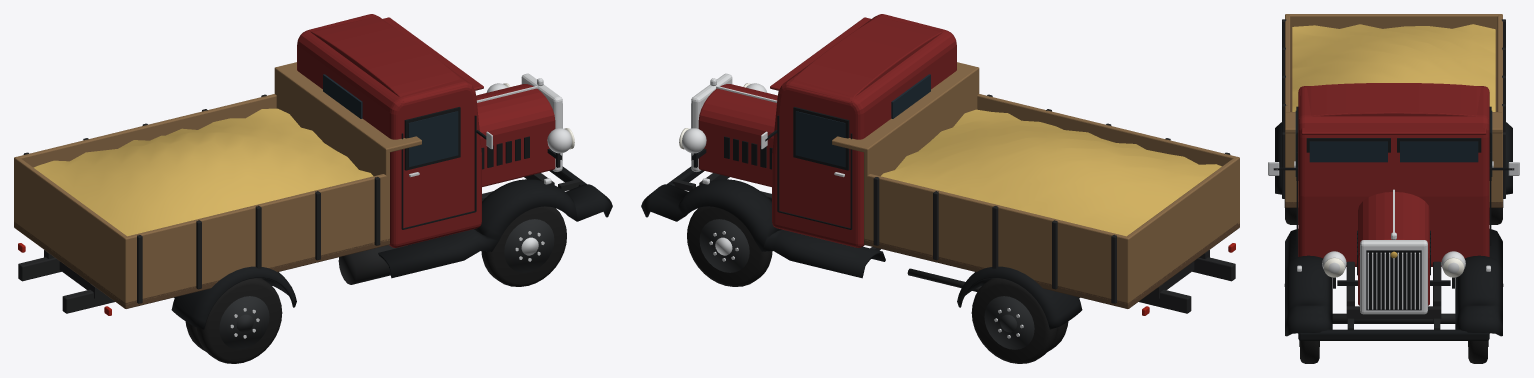
Rendered from hereford_grain_truck.glb.
3 renders of one model, left to right at view 1: azimuth 30°, elevation 25°; view 2: azimuth 150°, elevation 25°; view 3: azimuth 270°, elevation 25°, orthographic. The views are drawn at different scales.
Visible parts, largest first — view 1: monte_carga, lateral.001, cabine, tampa, paralama_d.001, teto_abaulado, capo, lateral, frente_cac, roda_t_pneu0.001, roda_d_pneu0.001, paralama_t.001 (+14 smaller); view 2: monte_carga, lateral, cabine, tampa, paralama_d, teto_abaulado, capo, frente_cac, lateral.001, roda_t_pneu1, roda_d_pneu0, paralama_t (+13 smaller); view 3: cabine, monte_carga, teto_abaulado, paralama_d, paralama_d.001, capo, tampa, radiador_colmeia, para_choque, radiador_moldura, parabrisa, parabrisa.001 (+23 smaller).
Boxes of the visible parts, box(x1,y1,x2,y2) form: monte_carga: box(33, 108, 373, 236); lateral.001: box(123, 174, 389, 304); cabine: box(297, 14, 481, 247); tampa: box(14, 157, 128, 301); paralama_d.001: box(378, 179, 612, 278); teto_abaulado: box(310, 17, 466, 101); capo: box(476, 84, 555, 186); lateral: box(14, 94, 276, 223); frente_cac: box(274, 71, 389, 225); roda_t_pneu0.001: box(196, 278, 282, 363); roda_d_pneu0.001: box(481, 206, 566, 286); paralama_t.001: box(171, 266, 296, 329); monte_carga: box(881, 109, 1221, 236); lateral: box(864, 174, 1130, 304); cabine: box(772, 14, 956, 247); tampa: box(1125, 157, 1239, 303); paralama_d: box(641, 179, 885, 278); teto_abaulado: box(787, 17, 943, 101); capo: box(698, 84, 777, 186); frente_cac: box(864, 71, 979, 240); lateral.001: box(977, 94, 1239, 224); roda_t_pneu1: box(971, 278, 1057, 363); roda_d_pneu0: box(687, 206, 772, 286); paralama_t: box(957, 266, 1082, 329); cabine: box(1298, 86, 1489, 266); monte_carga: box(1292, 24, 1495, 111); teto_abaulado: box(1299, 83, 1488, 118); paralama_d: box(1455, 229, 1503, 336); paralama_d.001: box(1284, 229, 1332, 336); capo: box(1358, 192, 1429, 305); tampa: box(1285, 14, 1502, 77); radiador_colmeia: box(1366, 250, 1421, 310); para_choque: box(1298, 329, 1489, 340); radiador_moldura: box(1360, 240, 1427, 314); parabrisa: box(1400, 141, 1478, 162); parabrisa.001: box(1309, 141, 1387, 162).
Bounding box in the file's own units: 5.69 × 2.34 × 2.45.
